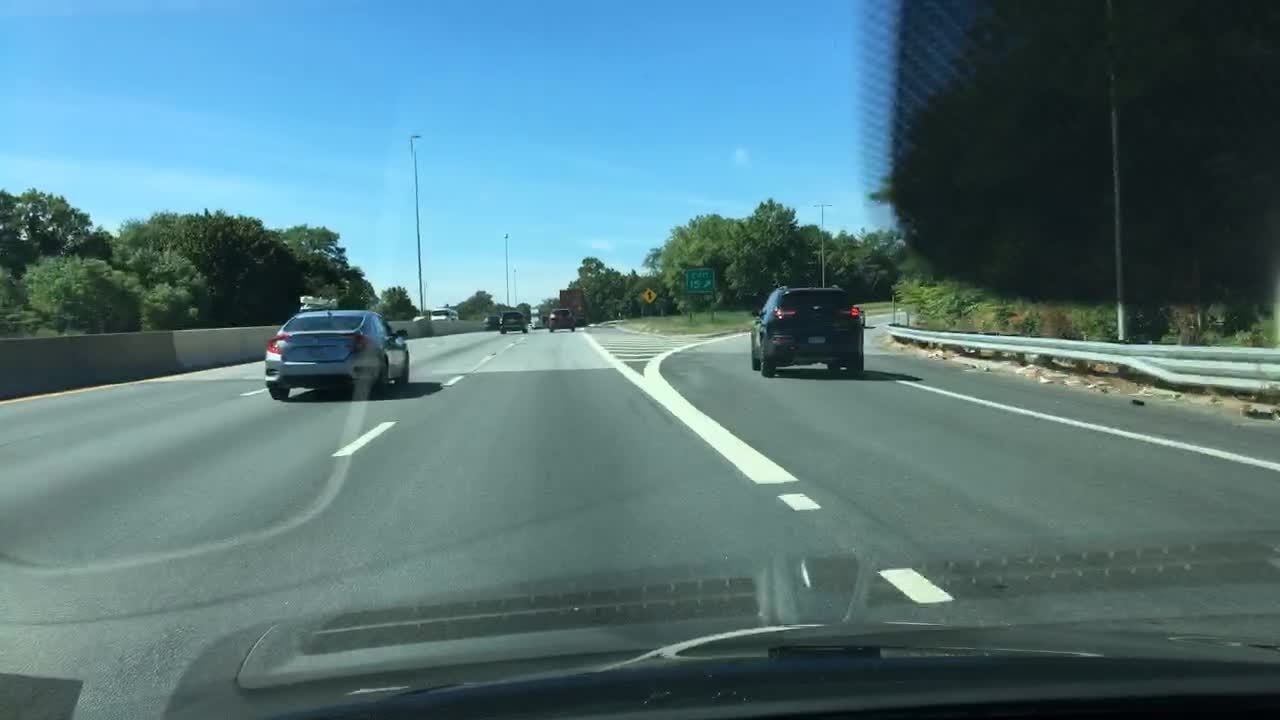car: (263, 307, 409, 401), (750, 284, 866, 377), (546, 306, 579, 333), (500, 310, 527, 334), (428, 307, 458, 319), (481, 315, 500, 331)
traffic sign: (679, 267, 714, 294), (641, 286, 656, 304)
truck: (559, 287, 590, 325), (531, 307, 556, 328)
